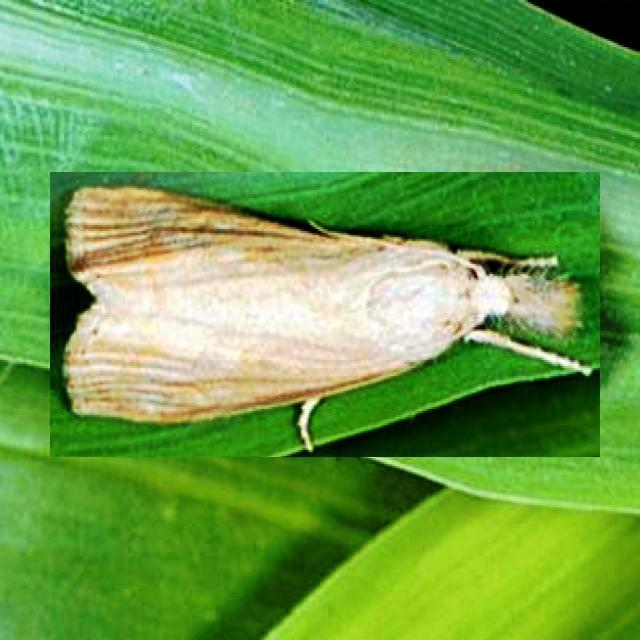stem-borer: (50, 172, 600, 457)
